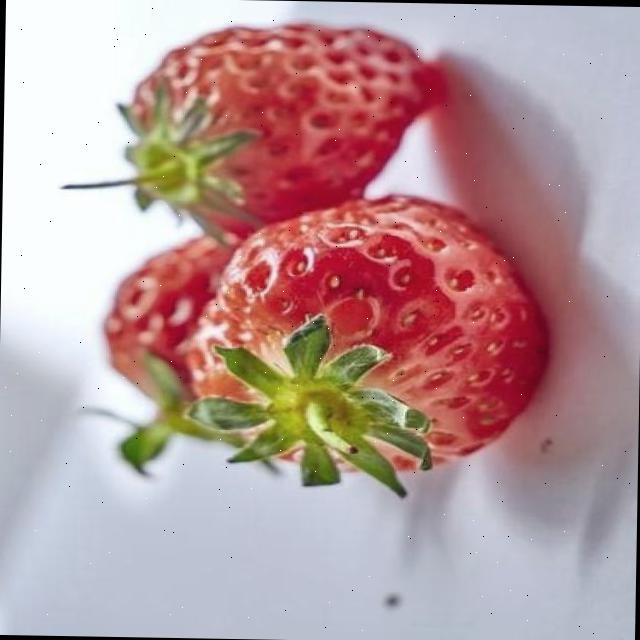strawberry: (188, 191, 548, 476), (128, 25, 440, 240)
